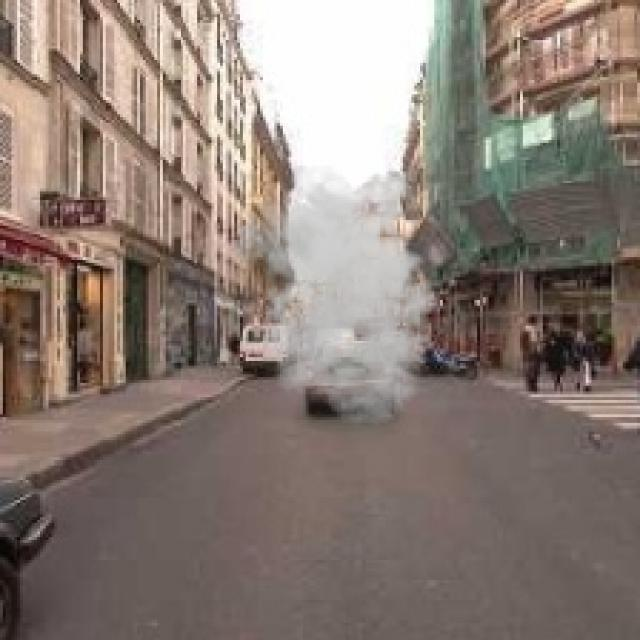Smoke: (234, 166, 457, 426)
